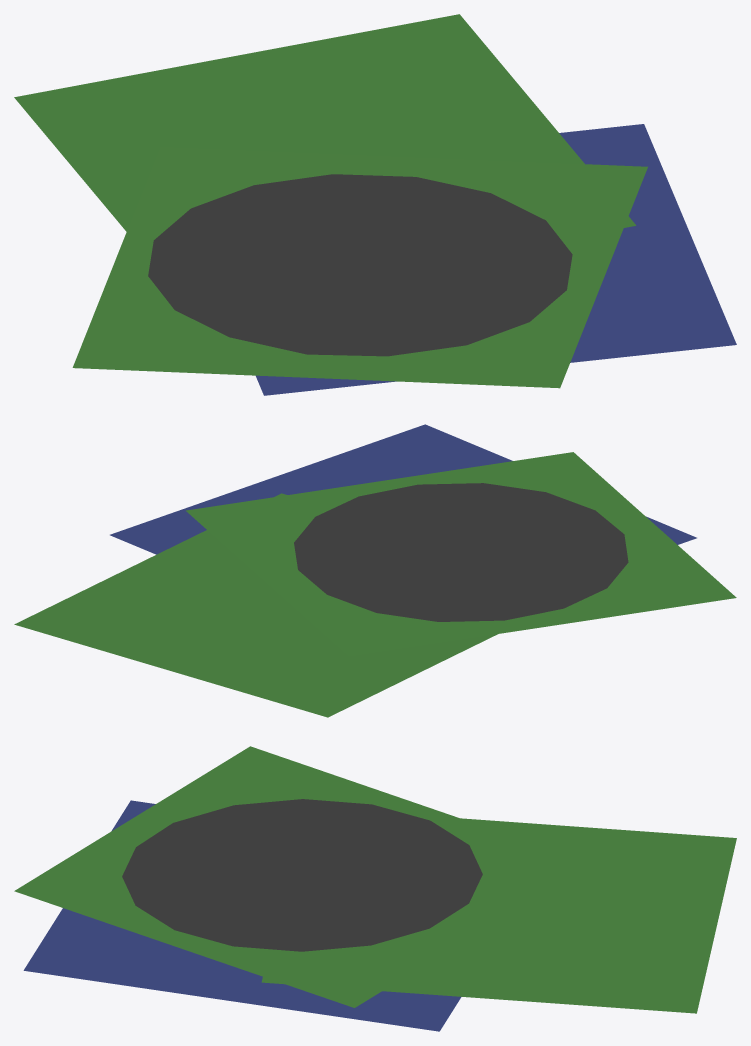
File: Vinyls_1.fbx
3 renders of one model, top to bottom at view 1: azimuth 30°, elevation 25°; view 2: azimuth 150°, elevation 25°; view 3: azimuth 270°, elevation 25°, orthographic. The views are drawn at different scales.
Visible parts, largest first — view 1: Vinyls_1; view 2: Vinyls_1; view 3: Vinyls_1.
Boxes of the visible parts, bbox=[...] form: Vinyls_1: bbox=[14, 14, 736, 395]; Vinyls_1: bbox=[14, 424, 736, 717]; Vinyls_1: bbox=[14, 746, 736, 1031].
Bounding box in the file's own units: 40.77 × 44.27 × 0.6641.
